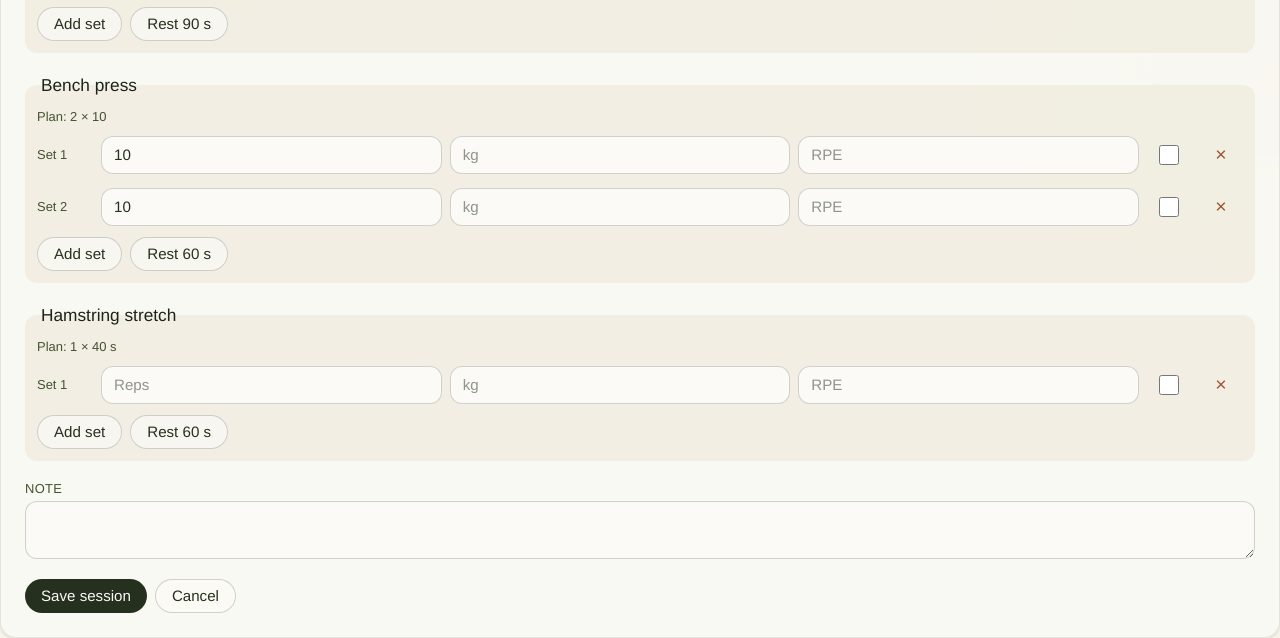
it: <SessionLogger> › keeps the form and shows an alert when the session write is refused; no entry is written
The width and height of the screenshot is (1280, 638).
(page scrolled)
Step 1. Click the button "Save session" → [86, 596], box left=25, top=579, right=147, bottom=613
(page scrolled)
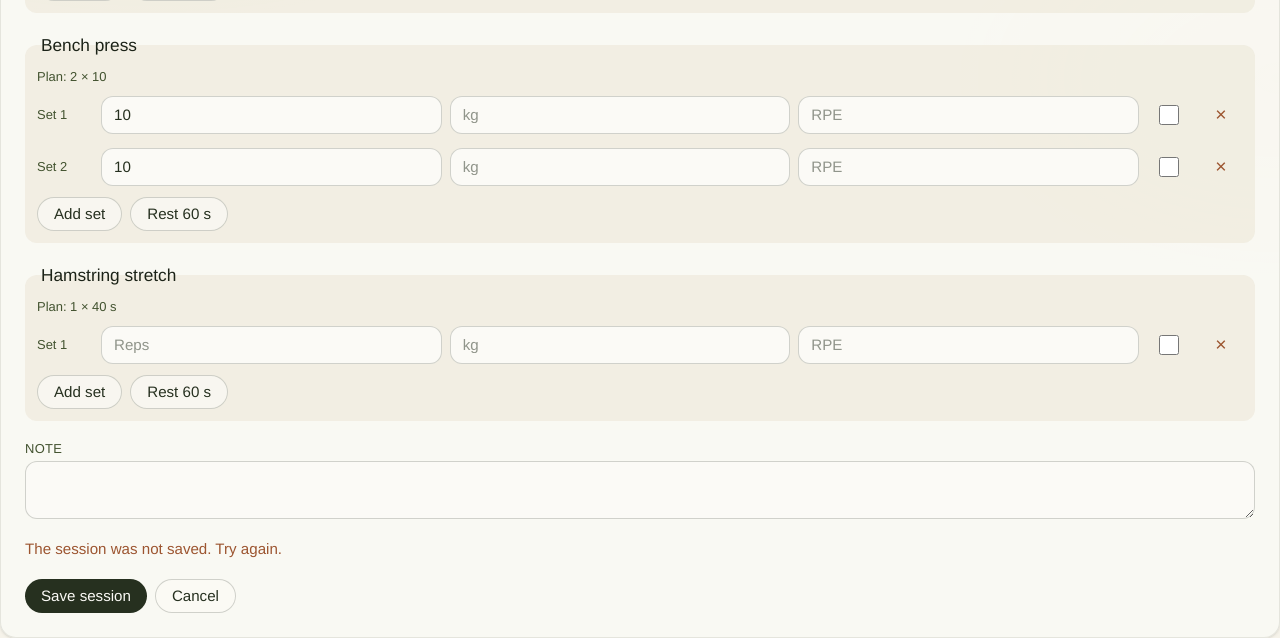
expect the message reads "The session was not saved. Try again.": met, box left=25, top=540, right=282, bottom=557
